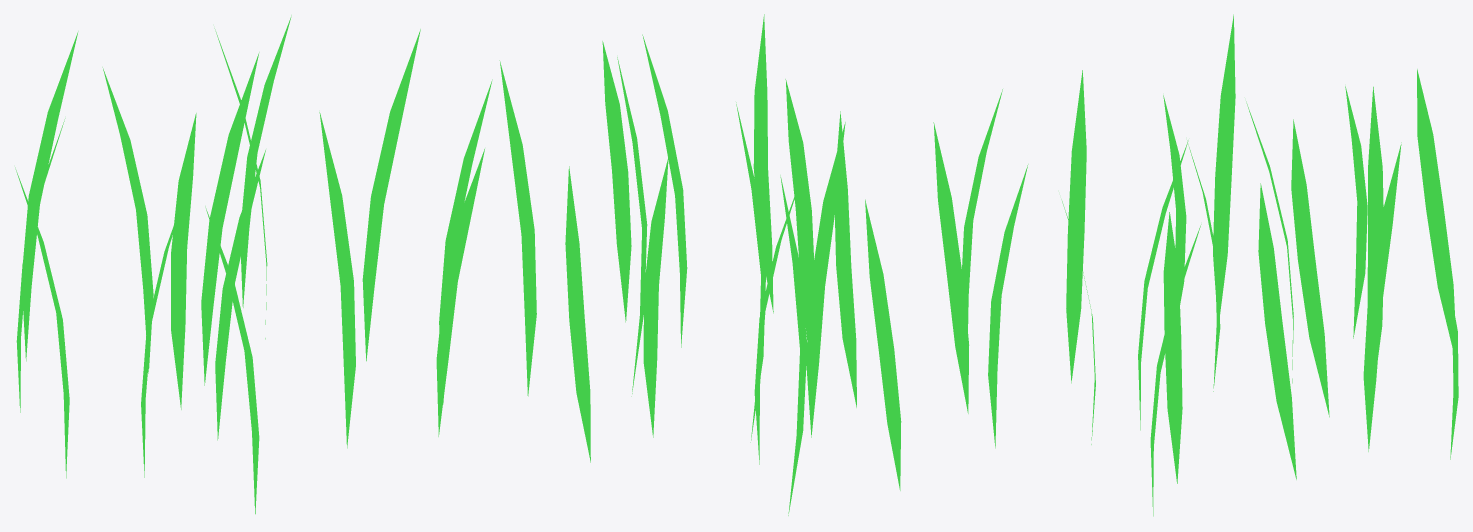
The model's file is Grass.glb.
The picture shows the model from 3 angles, left to right: view 1: azimuth 30°, elevation 25°; view 2: azimuth 150°, elevation 25°; view 3: azimuth 270°, elevation 25°; orthographic projection. The views are drawn at different scales.
Visible parts, largest first — view 1: Plane.003; view 2: Plane.003; view 3: Plane.003.
Part boxes in pixels (x1,y1,x2,y2): Plane.003: (15,15,536,514); Plane.003: (565,14,1028,515); Plane.003: (1061,14,1458,516).
Size of the model in its own units: 0.6215 by 0.4319 by 0.4869.
